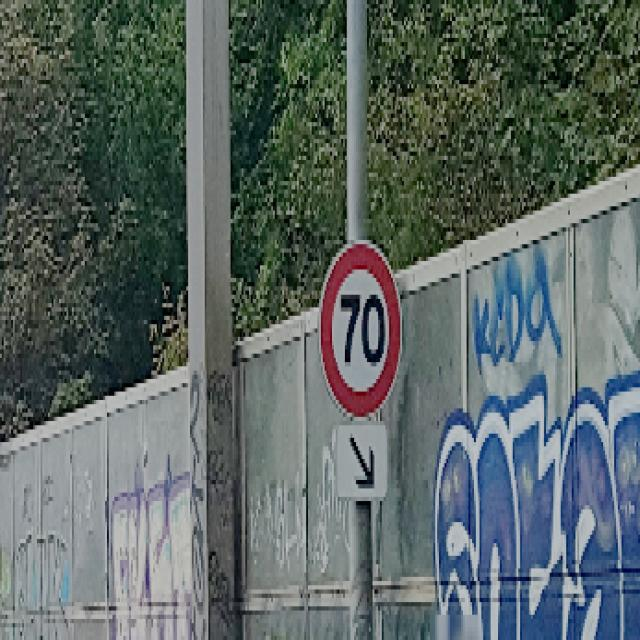speed_70: (314, 233, 404, 422)
